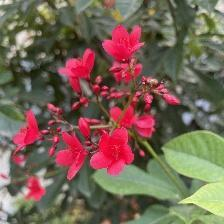jatropha: (94, 126, 135, 180)
